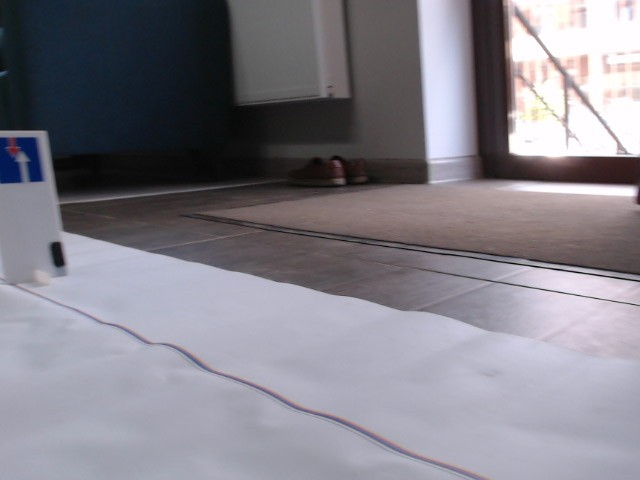priority_movement: (1, 136, 44, 184)
